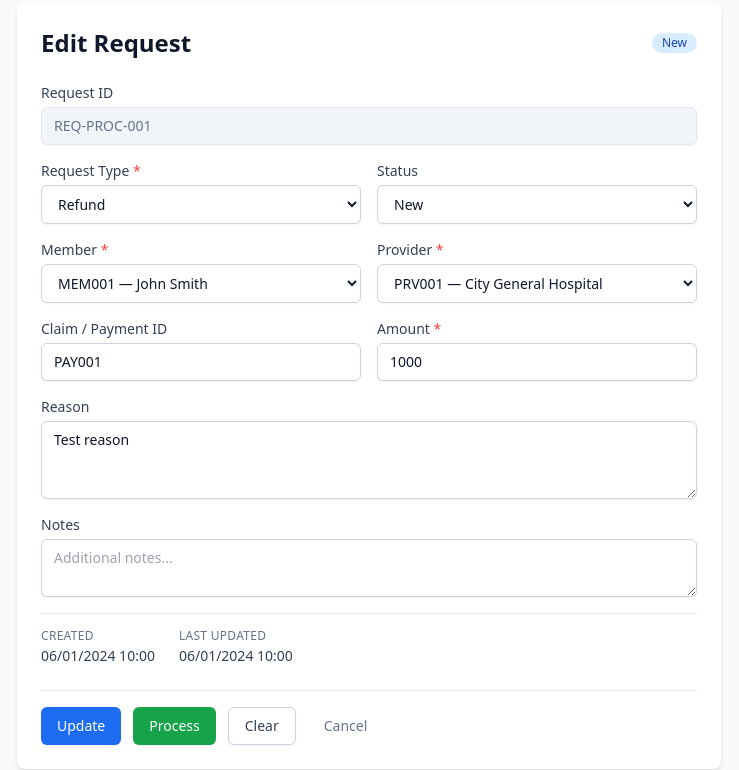
Test: RequestForm › Process button changes status › marks request as Processed when Process button is clicked
Click the button "Process" at (175, 726), box x1=133 y1=707 x2=216 y2=745
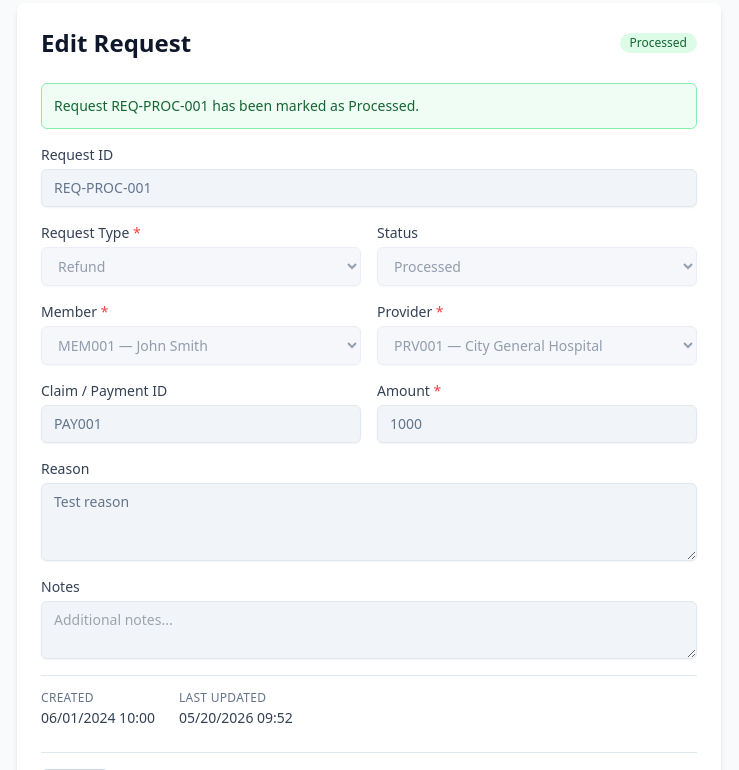
Expected: the text "Request REQ-PROC-001 has been marked as Processed." is shown, x1=54 y1=96 x2=419 y2=115
